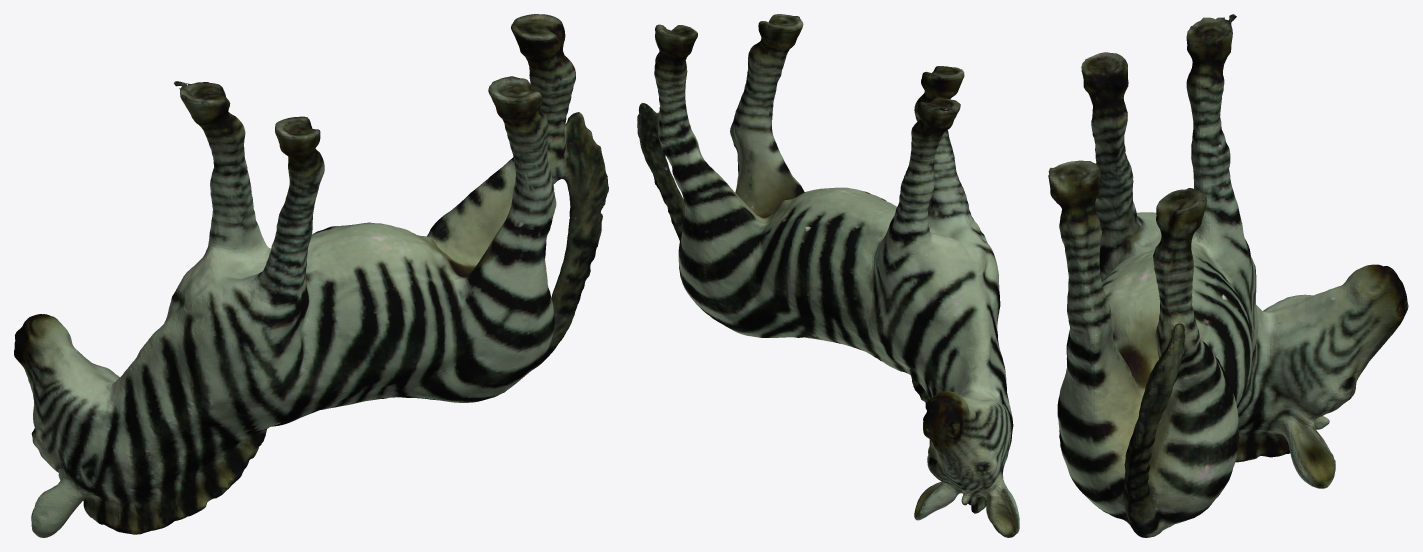
The model's file is nontextured_simplified.obj.
The picture shows the model from 3 angles, left to right: view 1: azimuth 30°, elevation 25°; view 2: azimuth 150°, elevation 25°; view 3: azimuth 270°, elevation 25°; orthographic projection. The views are drawn at different scales.
Parts seen in each view (by area): view 1: nontextured_simplified.ply; view 2: nontextured_simplified.ply; view 3: nontextured_simplified.ply.
Part boxes in pixels (x1,y1,x2,y2): nontextured_simplified.ply: [14, 14, 608, 537]; nontextured_simplified.ply: [637, 14, 1019, 537]; nontextured_simplified.ply: [1048, 14, 1408, 537].
Size of the model in its own units: 0.0995 by 0.0847 by 0.0569.
